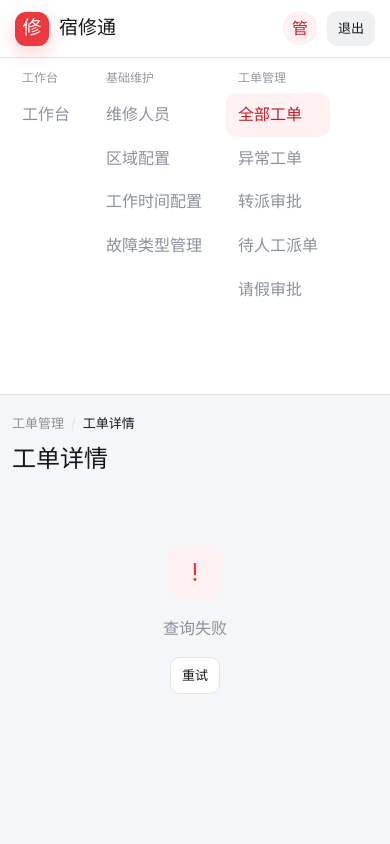
Test case: 管理员工单详情 › 加载失败展示错误并可重试
Click the button with class "small" showing "重试" at [195, 676], box [170, 657, 220, 694]
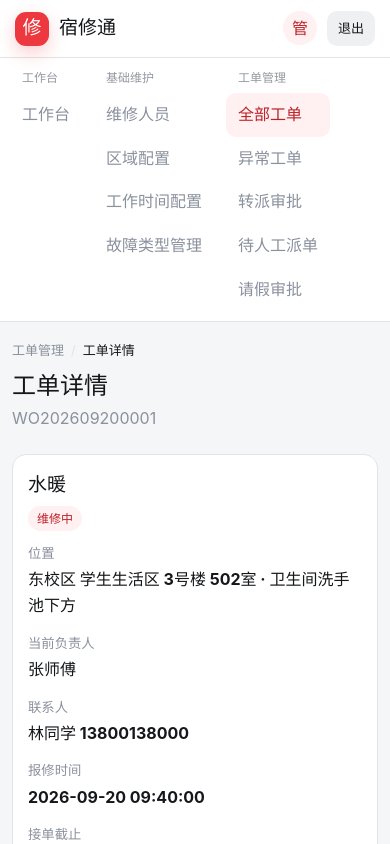
Expected: the text "水暖" is shown, [28, 472, 66, 496]
